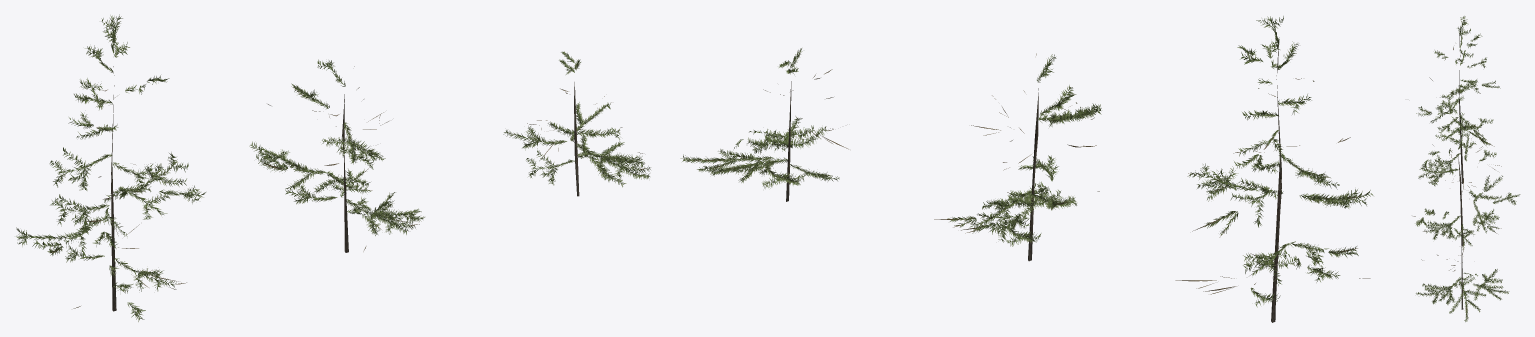
Rendered from fir-sapling-optimized.glb.
The picture shows the model from 3 angles, left to right: view 1: azimuth 30°, elevation 25°; view 2: azimuth 150°, elevation 25°; view 3: azimuth 270°, elevation 25°; orthographic projection. The views are drawn at different scales.
Visible parts, largest first — view 1: fir_sapling_a, fir_sapling_b, fir_sapling_c; view 2: fir_sapling_a, fir_sapling_b, fir_sapling_c; view 3: fir_sapling_a, fir_sapling_b, fir_sapling_c.
Boxes of the visible parts, x1=… form: fir_sapling_a: x1=16, y1=14, x2=205, y2=321; fir_sapling_b: x1=249, y1=59, x2=424, y2=252; fir_sapling_c: x1=503, y1=51, x2=650, y2=196; fir_sapling_a: x1=1175, y1=16, x2=1373, y2=322; fir_sapling_b: x1=934, y1=53, x2=1101, y2=261; fir_sapling_c: x1=680, y1=48, x2=848, y2=201; fir_sapling_a: x1=1416, y1=16, x2=1501, y2=191; fir_sapling_b: x1=1413, y1=128, x2=1520, y2=254; fir_sapling_c: x1=1416, y1=228, x2=1509, y2=321.
Size of the model in its own units: 2.67 by 1.22 by 0.7773.
2 materials, 2 textured.
